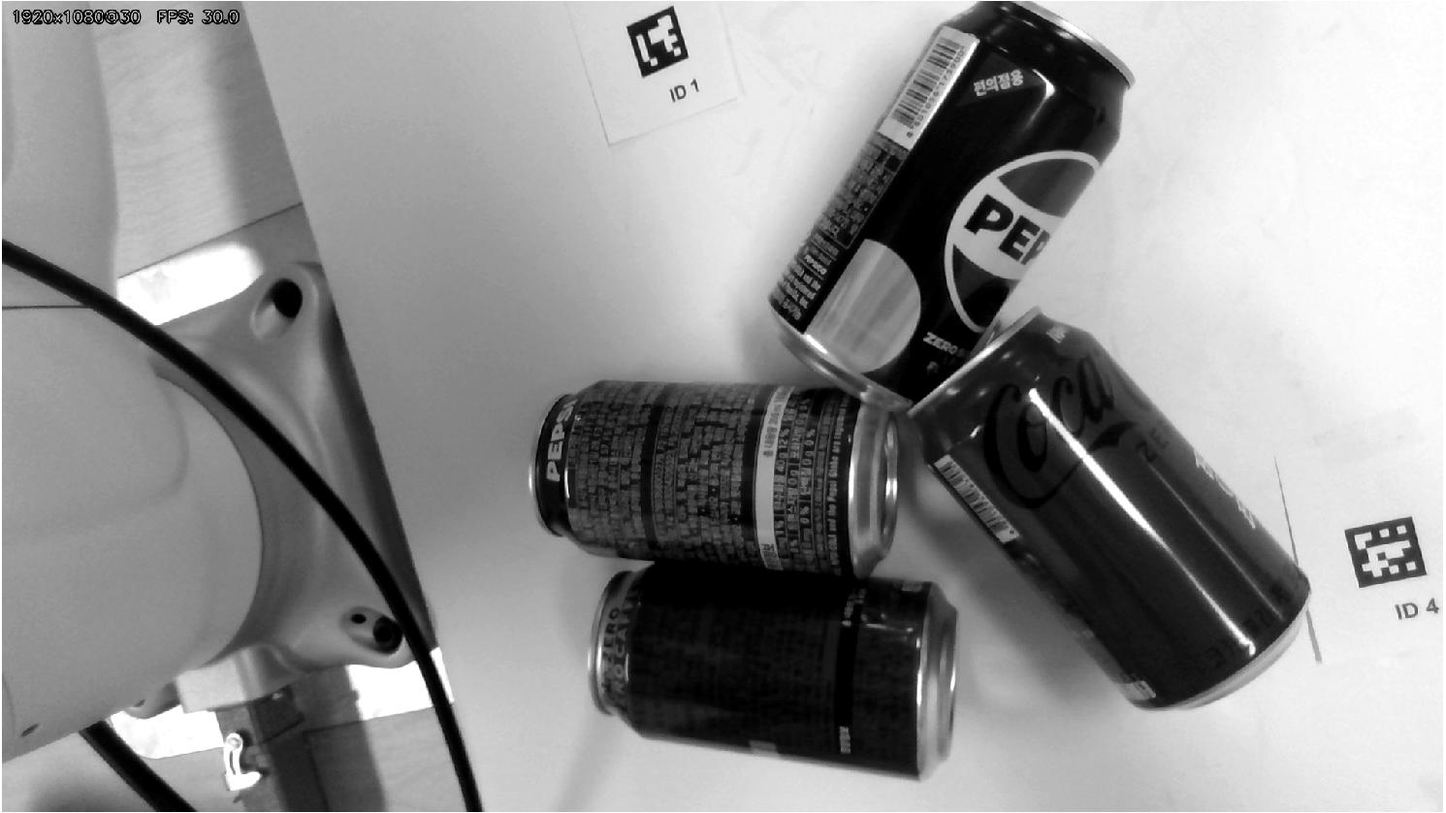can_coke_decaf: (586, 564, 956, 777)
can_coke_zero: (911, 309, 1309, 707)
can_pepsi: (528, 381, 897, 578)
can_pepsi_zero: (769, 0, 1129, 410)
